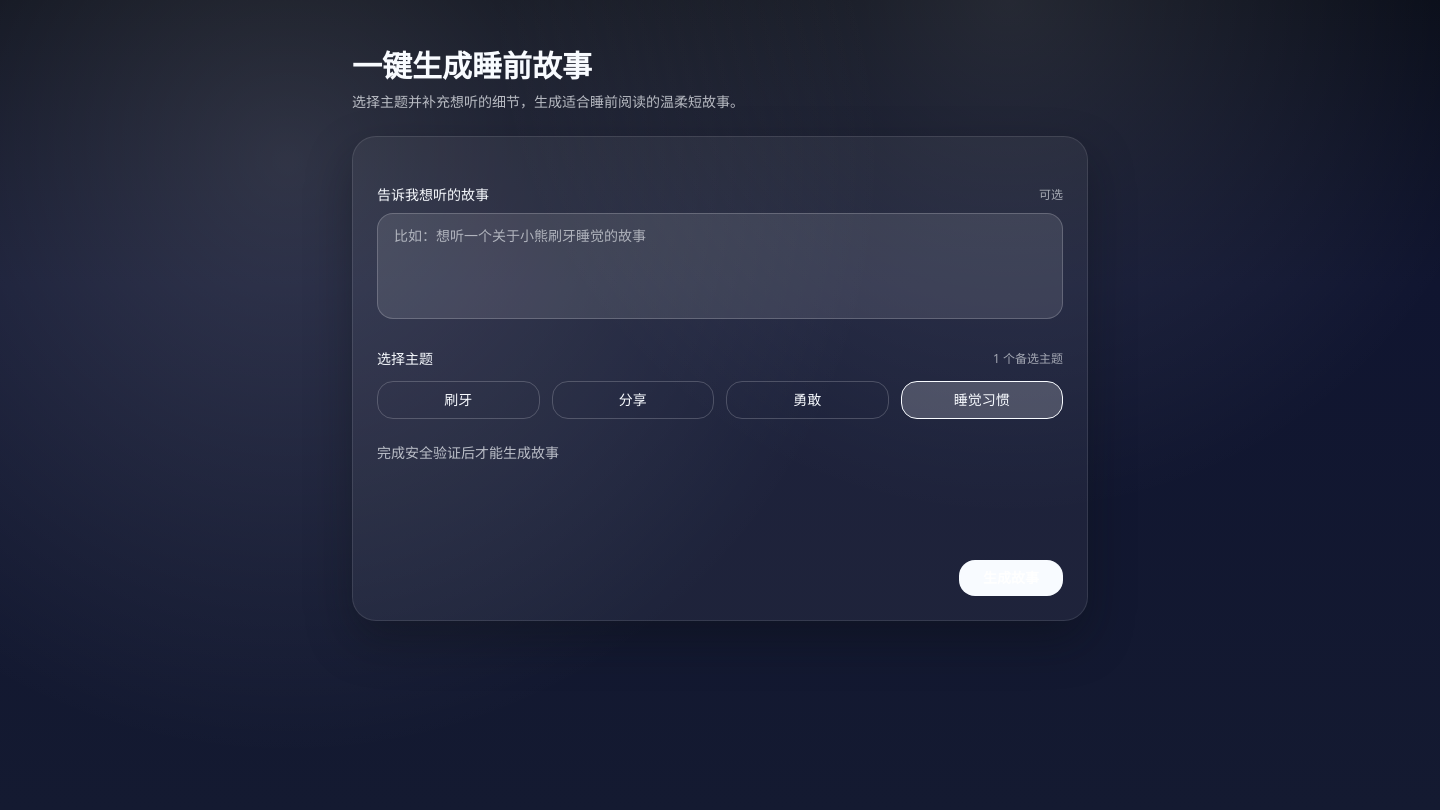
generate page › shows validation error when submitting without turnstile token
Click the button "生成故事": (1011, 578) [959,560,1063,596]
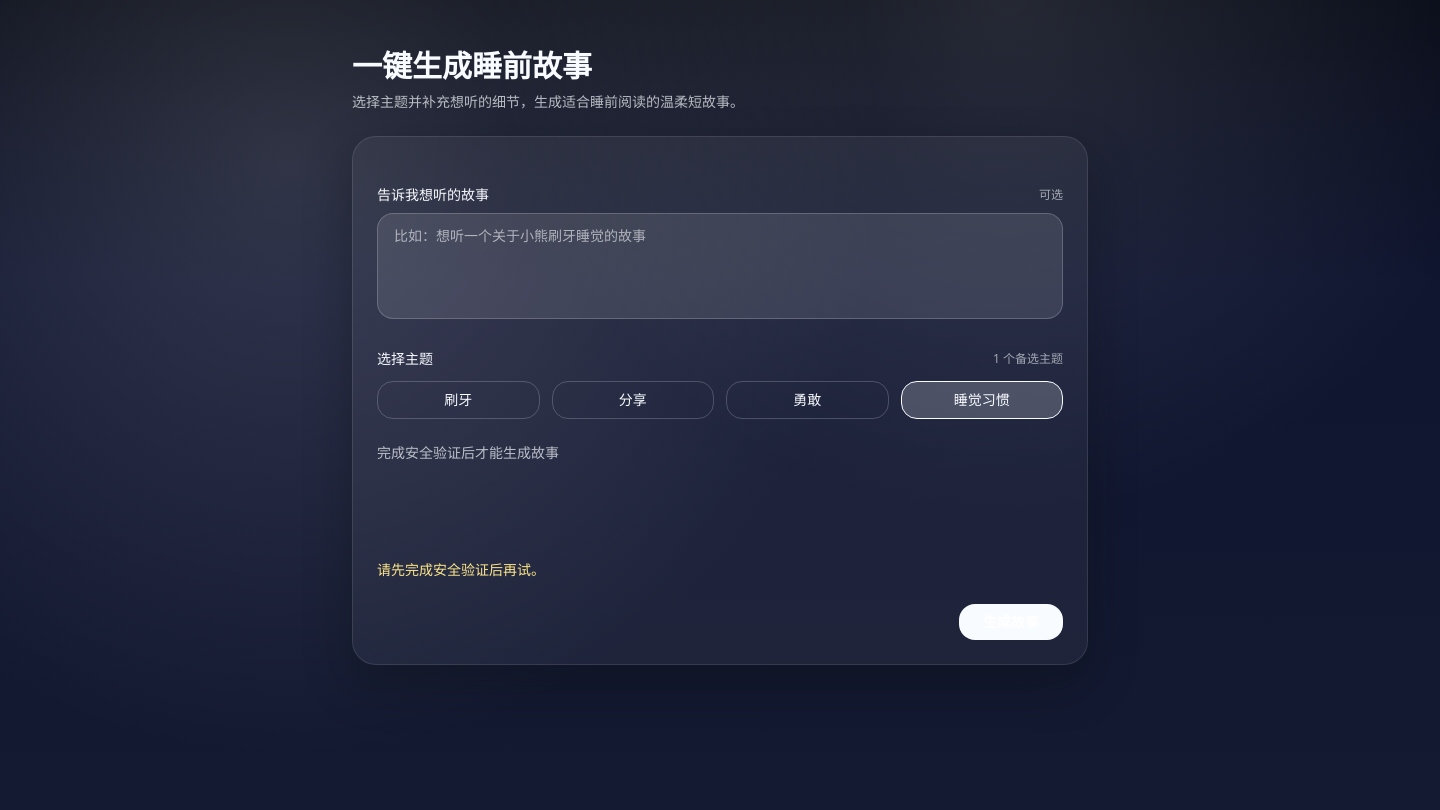
Result: the text "请先完成安全验证后再试。" is shown at [377,560,545,579]
